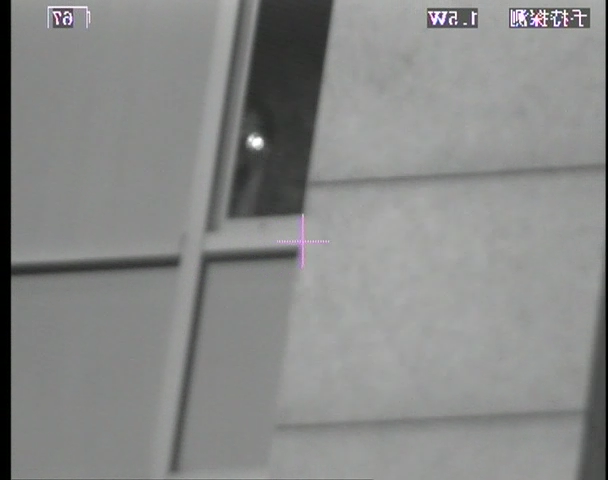my: (245, 130, 265, 151)
